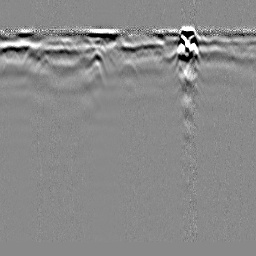cavity: (118, 60, 138, 76)
